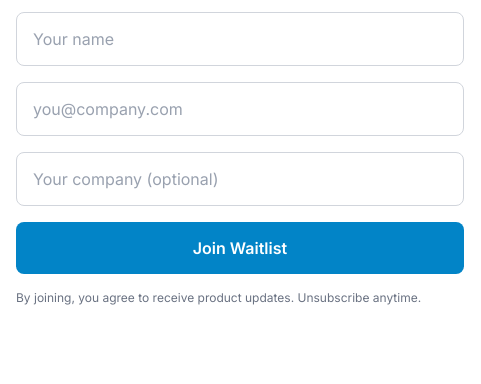
WaitlistForm › should show error message on API failure
This screenshot has width=481, height=384.
Type "existing@example.com" into the field with placeholder "you@company.com". click: [240, 109]
box: [16,82,464,136]
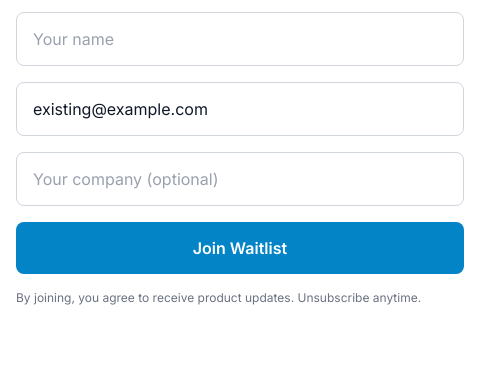
Click the button "Join Waitlist". click: [240, 248]
box: [16,222,464,274]
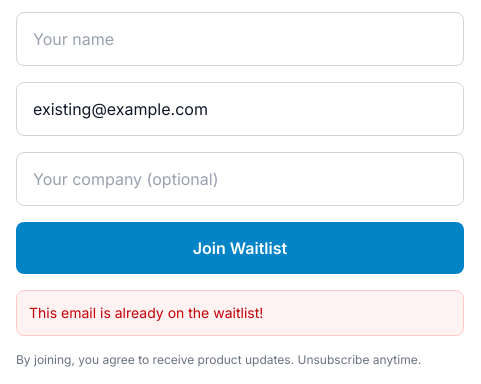
Result: the text "This email is already on the waitlist!" is shown at [16,290,464,336]
